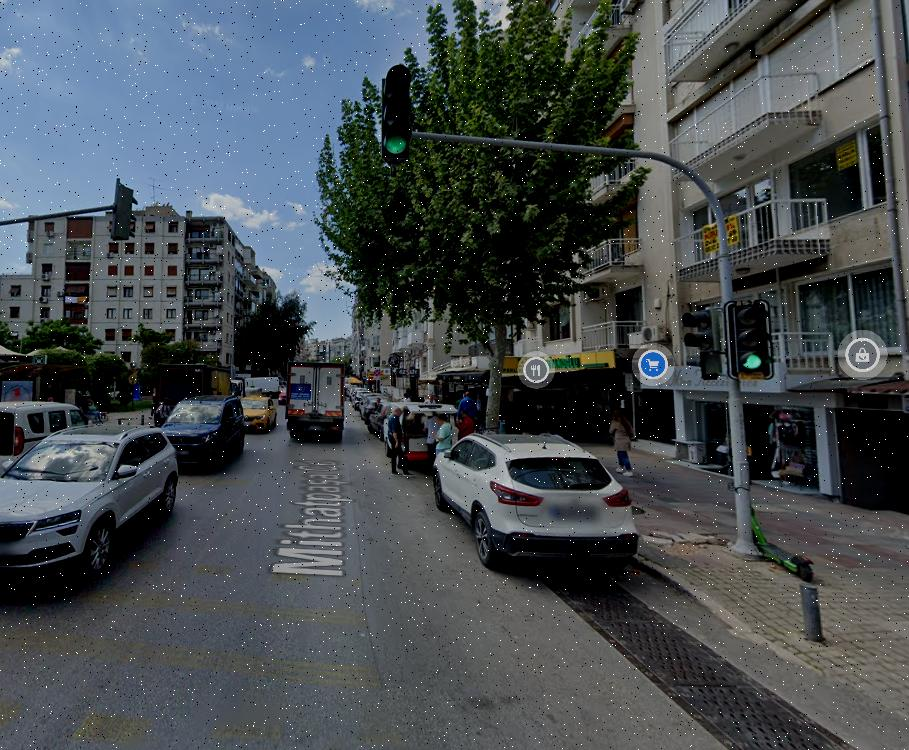greenlight: (731, 298, 769, 371), (387, 63, 414, 154)
